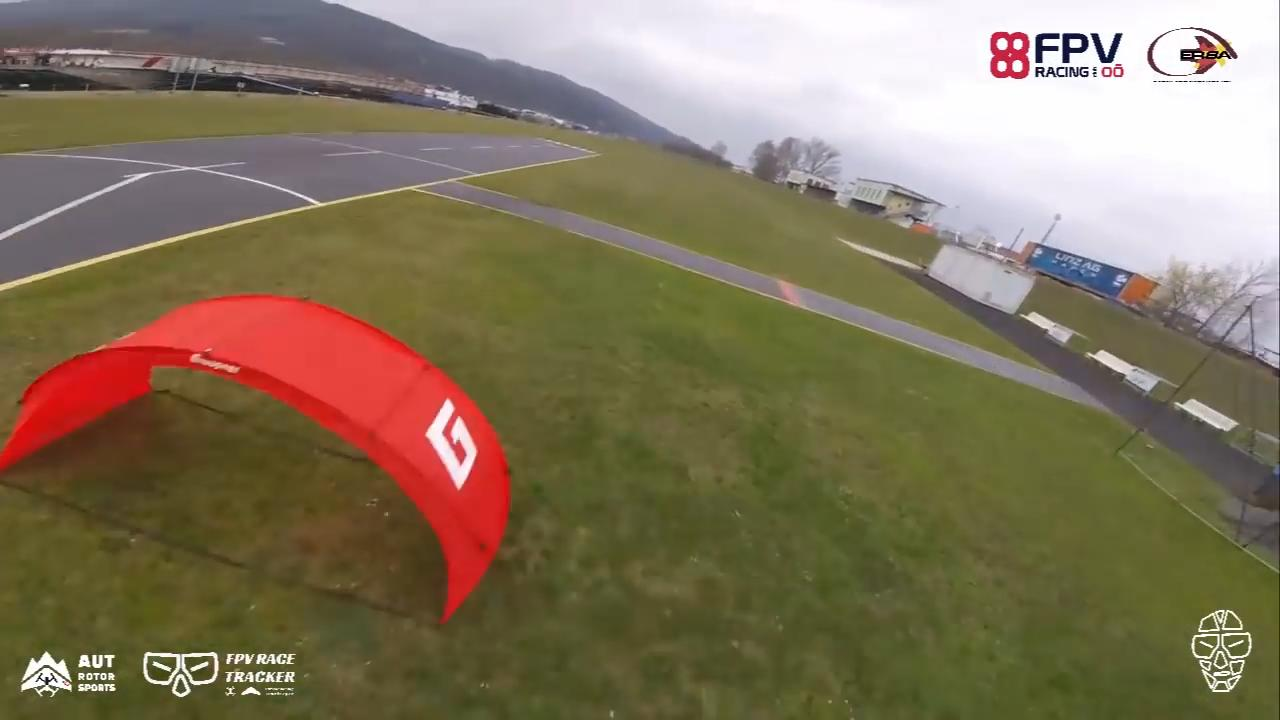gate: (1, 290, 514, 632)
